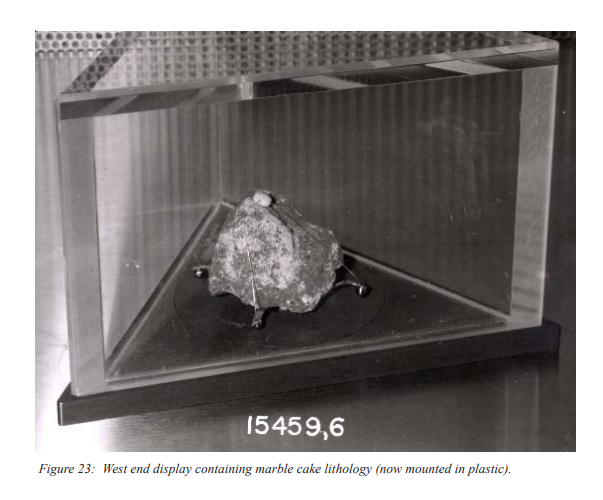Breccia: (225, 183, 347, 305)
